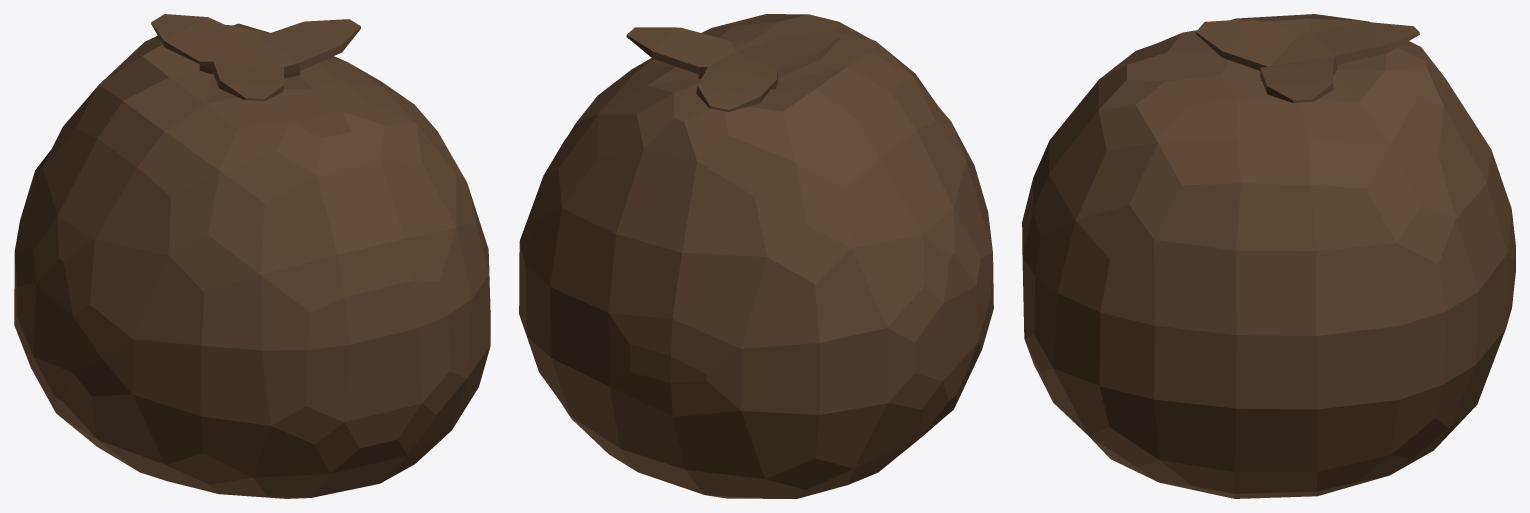
The model's file is O_Juice.fbx.
3 views of the same model, side by side, from view 1: azimuth 30°, elevation 25°; view 2: azimuth 150°, elevation 25°; view 3: azimuth 270°, elevation 25° (orthographic). The views are drawn at different scales.
Visible parts, largest first — view 1: O_Juice; view 2: O_Juice; view 3: O_Juice.
Part boxes in pixels (x1=…): O_Juice: x1=14, y1=14, x2=490, y2=498; O_Juice: x1=519, y1=14, x2=993, y2=498; O_Juice: x1=1022, y1=14, x2=1515, y2=498.
Bounding box in the file's own units: 180 × 175 × 187.
